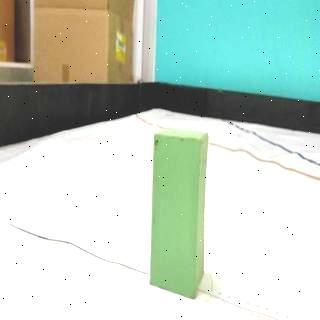greenbox: (148, 128, 210, 300)
